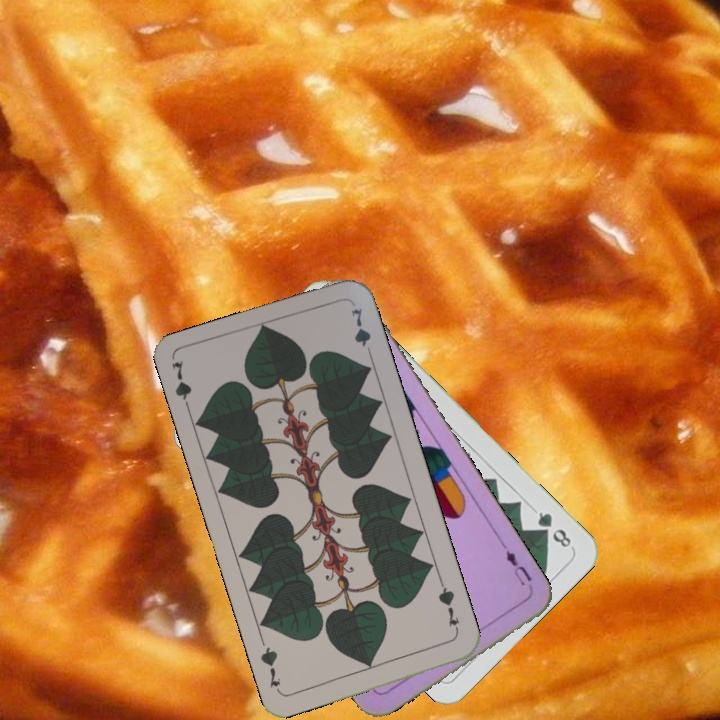EU: (498, 542, 536, 594)
G7: (434, 578, 462, 636), (167, 357, 194, 416)
G8: (533, 507, 574, 551)
